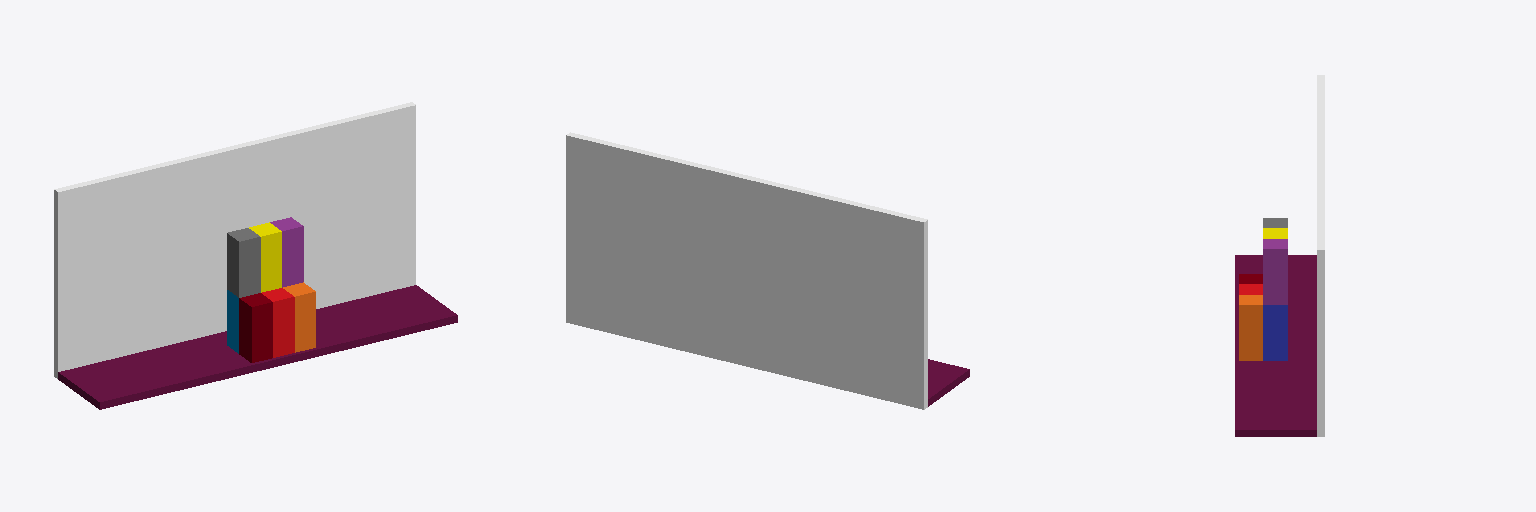
The model's file is cans-shelf-2.obj.
The picture shows the model from 3 angles: view 1: azimuth 30°, elevation 25°; view 2: azimuth 150°, elevation 25°; view 3: azimuth 270°, elevation 25°; orthographic projection.
Visible parts, largest first — view 1: Object.2, Object.1, Object.7, Object.10, Object.11, Object.6, Object.8, Object.9, Object.4; view 2: Object.2, Object.1; view 3: Object.1, Object.2, Object.11, Object.8, Object.5.
Part boxes in pixels (x1,y1,x2,y2): Object.2: (54, 102, 415, 378); Object.1: (58, 285, 457, 409); Object.7: (239, 293, 272, 362); Object.10: (227, 228, 260, 297); Object.11: (270, 217, 303, 287); Object.6: (262, 288, 294, 357); Object.8: (283, 282, 315, 352); Object.9: (249, 222, 281, 292); Object.4: (227, 290, 238, 353); Object.2: (566, 132, 927, 409); Object.1: (928, 359, 969, 406); Object.1: (1235, 255, 1316, 436); Object.2: (1317, 75, 1324, 436); Object.11: (1263, 239, 1287, 304); Object.8: (1239, 295, 1262, 360); Object.5: (1263, 305, 1287, 360).
Bounding box in the file's own units: 1000 × 500 × 220.